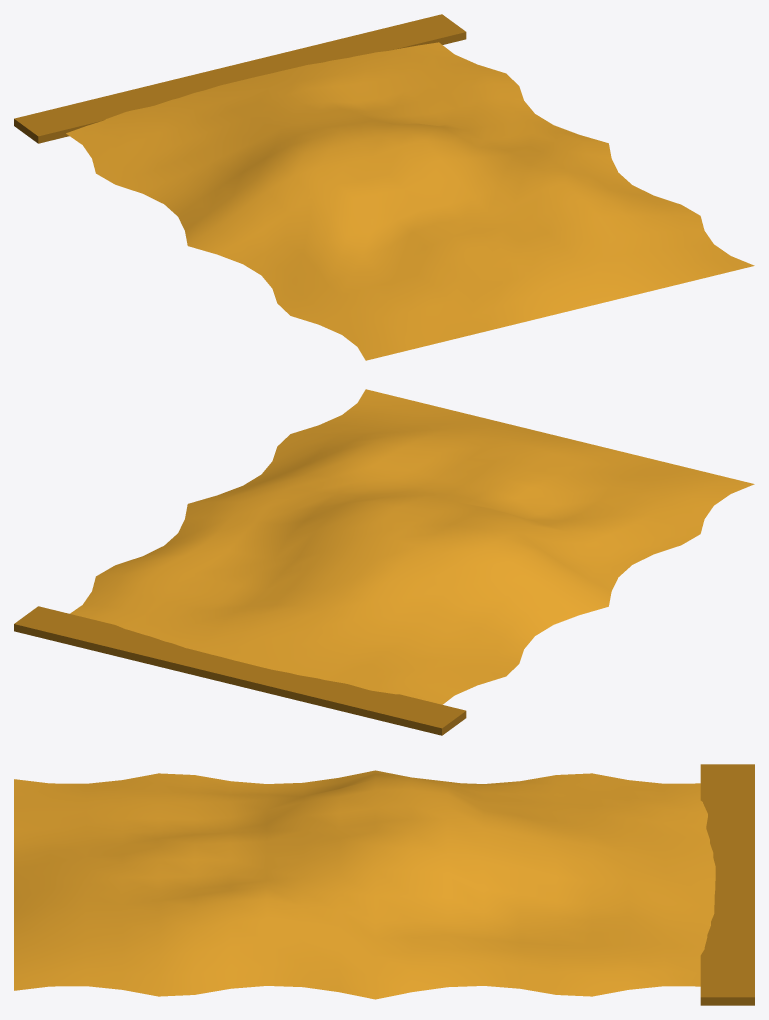
The model's file is food_wrapper.glb.
3 views of the same model, one above another, from view 1: azimuth 30°, elevation 25°; view 2: azimuth 150°, elevation 25°; view 3: azimuth 270°, elevation 25° (orthographic). The views are drawn at different scales.
Visible parts, largest first — view 1: food_wrapper; view 2: food_wrapper; view 3: food_wrapper.
Boxes of the visible parts, x1,y1,x2,y2 form: food_wrapper: (14,14,754,360); food_wrapper: (14,389,754,735); food_wrapper: (14,764,754,1005).
Bounding box in the file's own units: 0.119 × 0.0136 × 0.16.
